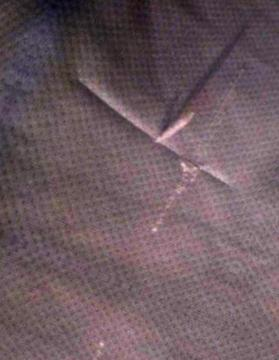snag: (138, 102, 212, 149)
